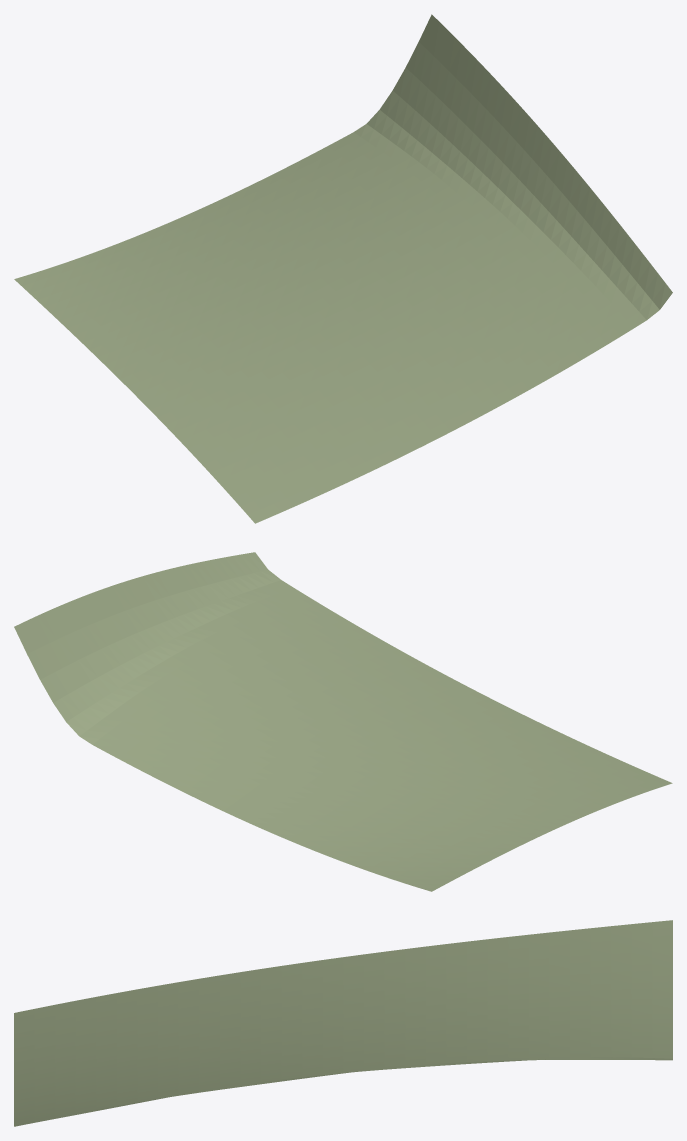
The model's file is alpine-11-9.glb.
3 renders of one model, top to bottom at view 1: azimuth 30°, elevation 25°; view 2: azimuth 150°, elevation 25°; view 3: azimuth 270°, elevation 25°, orthographic. The views are drawn at different scales.
Parts seen in each view (by area): view 1: alpine-11-9; view 2: alpine-11-9; view 3: alpine-11-9.
Part boxes in pixels (<box>): alpine-11-9: <box>14,14,672,523</box>; alpine-11-9: <box>14,552,672,891</box>; alpine-11-9: <box>14,920,672,1126</box>.
Size of the model in its own units: 256 by 135 by 256.
